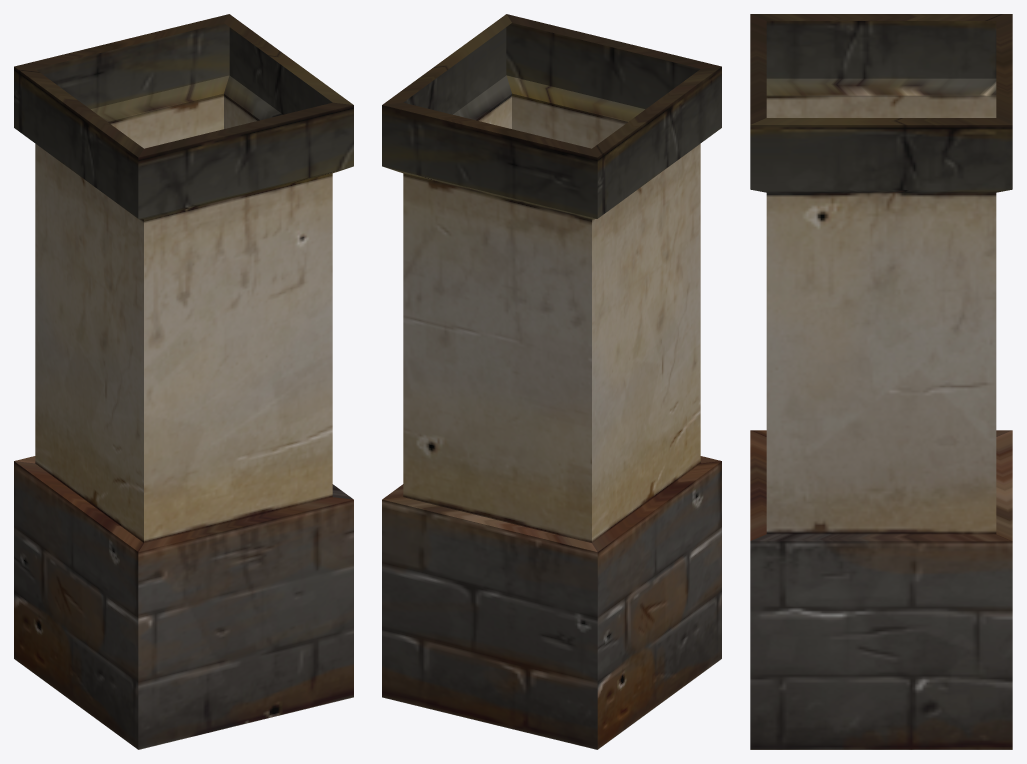
The model's file is column.FBX.
The picture shows the model from 3 angles, left to right: view 1: azimuth 30°, elevation 25°; view 2: azimuth 150°, elevation 25°; view 3: azimuth 270°, elevation 25°; orthographic projection. The views are drawn at different scales.
Visible parts, largest first — view 1: column; view 2: column; view 3: column.
Boxes of the visible parts, box(x1,y1,x2,y2) form: column: box(14, 14, 353, 749); column: box(382, 14, 721, 749); column: box(750, 14, 1012, 749).
Size of the model in its own units: 103 by 270 by 103.
